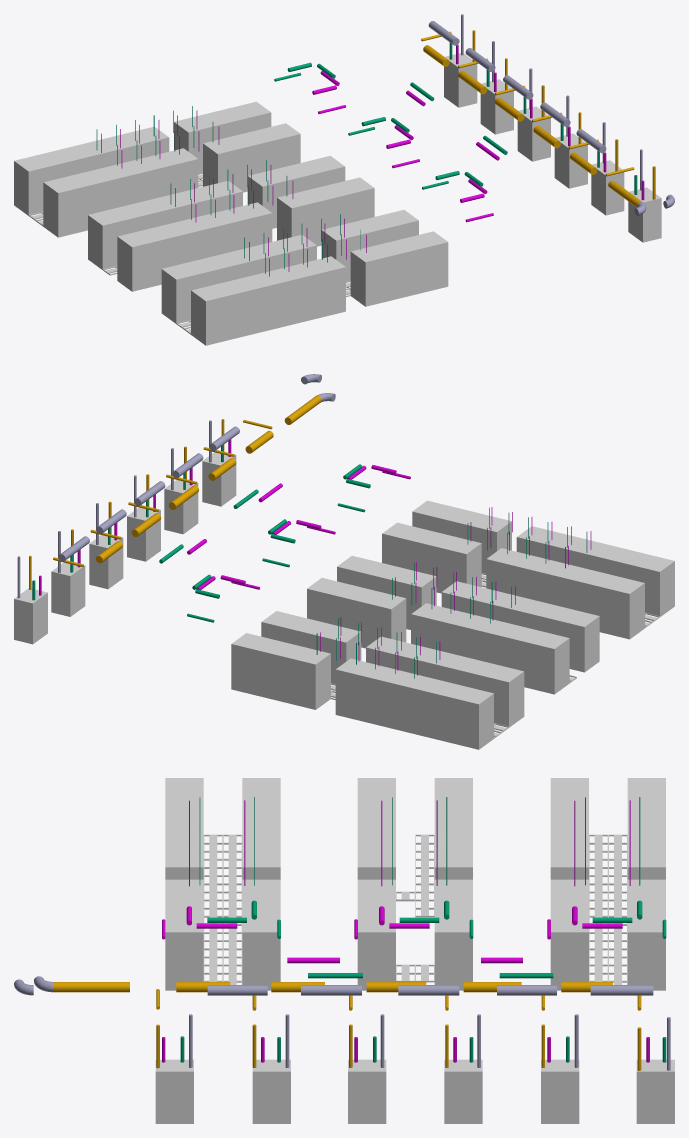
3 views of the same model, one above another, from view 1: azimuth 30°, elevation 25°; view 2: azimuth 150°, elevation 25°; view 3: azimuth 270°, elevation 25° (orthographic). The views are drawn at different scales.
Bounding box in the file's own units: 21.24 × 3.91 × 20.61.
